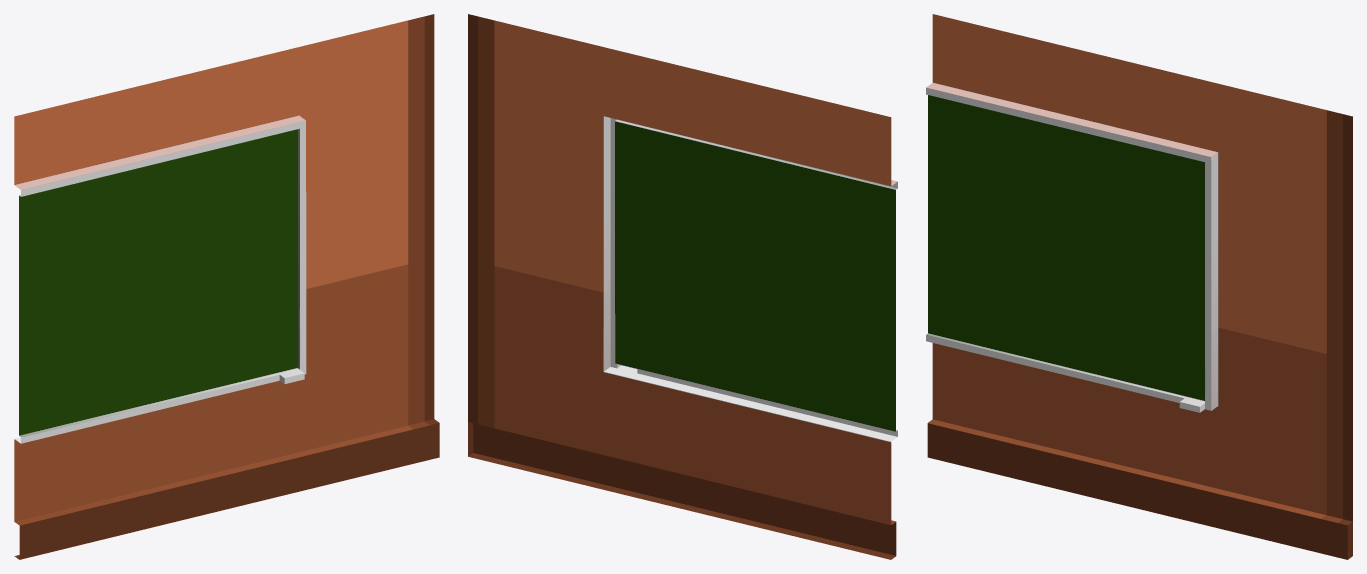
The model's file is wall-board-righthalf.fbx.
3 renders of one model, left to right at view 1: azimuth 30°, elevation 25°; view 2: azimuth 150°, elevation 25°; view 3: azimuth 330°, elevation 25°, orthographic.
Parts seen in each view (by area): view 1: Plane; view 2: Plane; view 3: Plane.
Part boxes in pixels (x1,y1,x2,y2): Plane: [14, 14, 439, 559]; Plane: [468, 14, 897, 559]; Plane: [926, 14, 1352, 559].
Bounding box in the file's own units: 768 × 768 × 36.79.
1 material, 1 textured.
